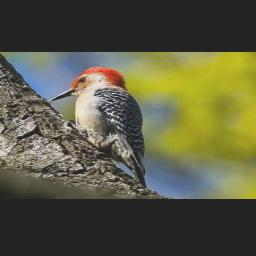Woodpecker: (45, 67, 146, 186)
